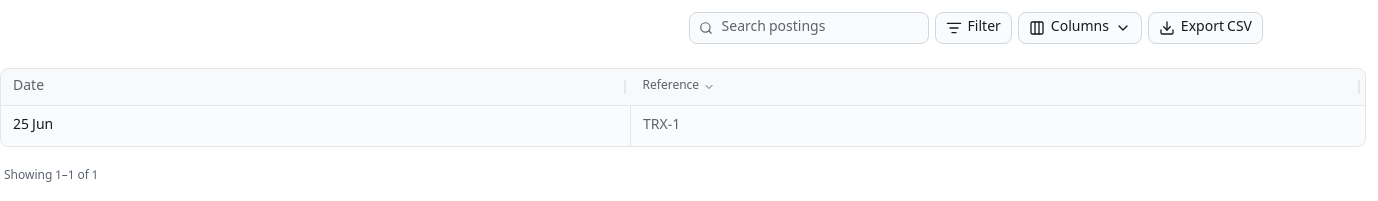
Scenario: a ledger header (AC-113) › offers Filter… and Pin column, and never a sort item
Click the button with aria-label "Column options for Reference" at (671, 86), box [630,69,1365,105]
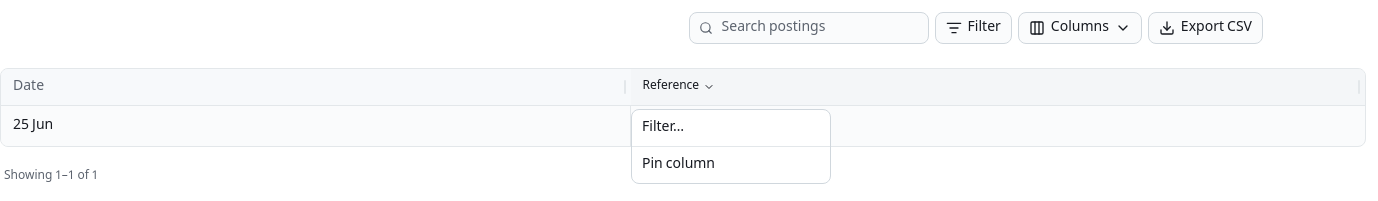
Now the menu item "Filter…" is shown, box [642,116,684,140]
Now the menu item "Pin column" is shown, box [642,153,715,177]
